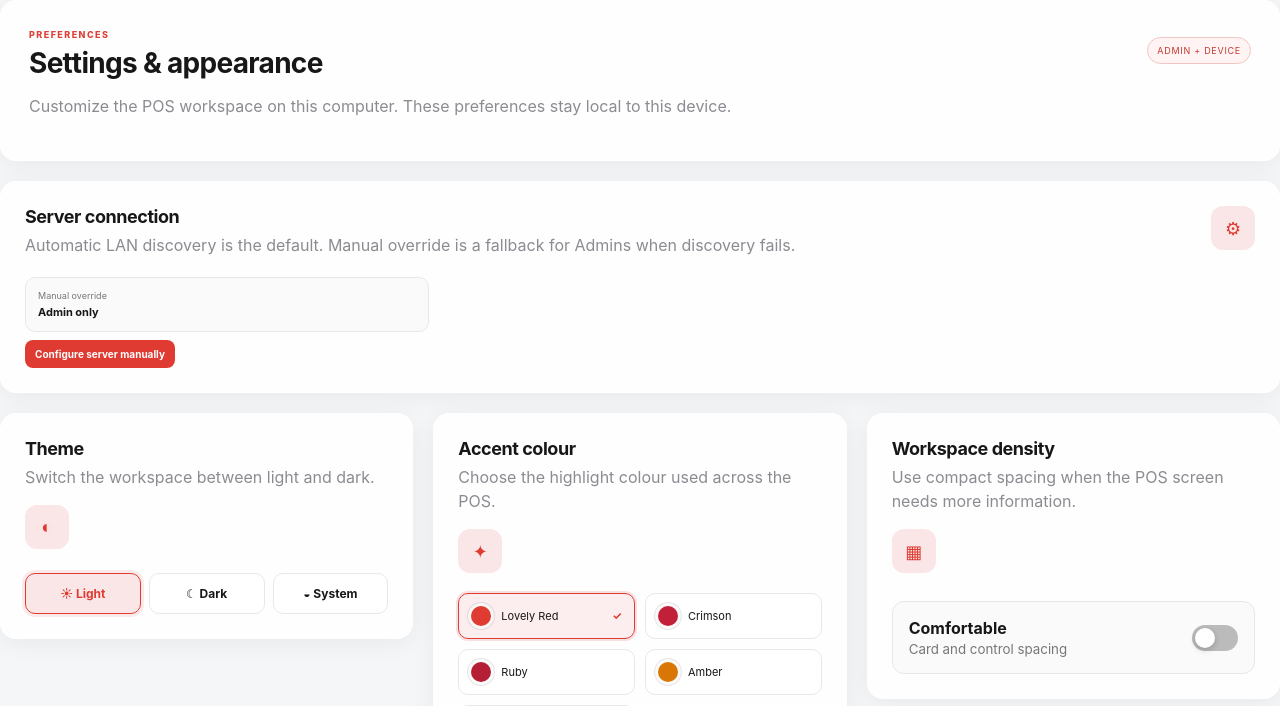
Test case: Admin manual fallback › allows Admin to access manual fallback from Settings
Click the button "Configure server manually": (100, 354) left=25, top=340, right=175, bottom=368
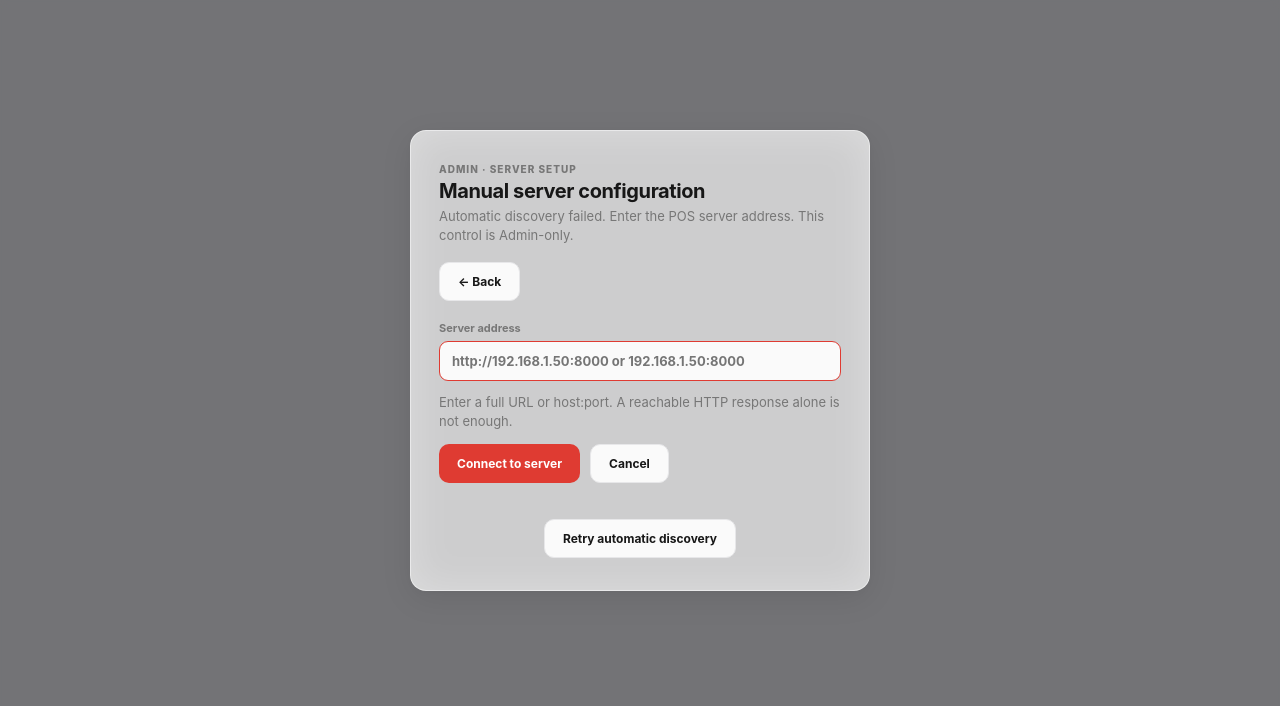
Check: the heading "Manual server configuration" is shown, box left=439, top=178, right=705, bottom=202
